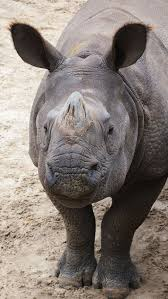Rhinoceros: (6, 12, 164, 297)
